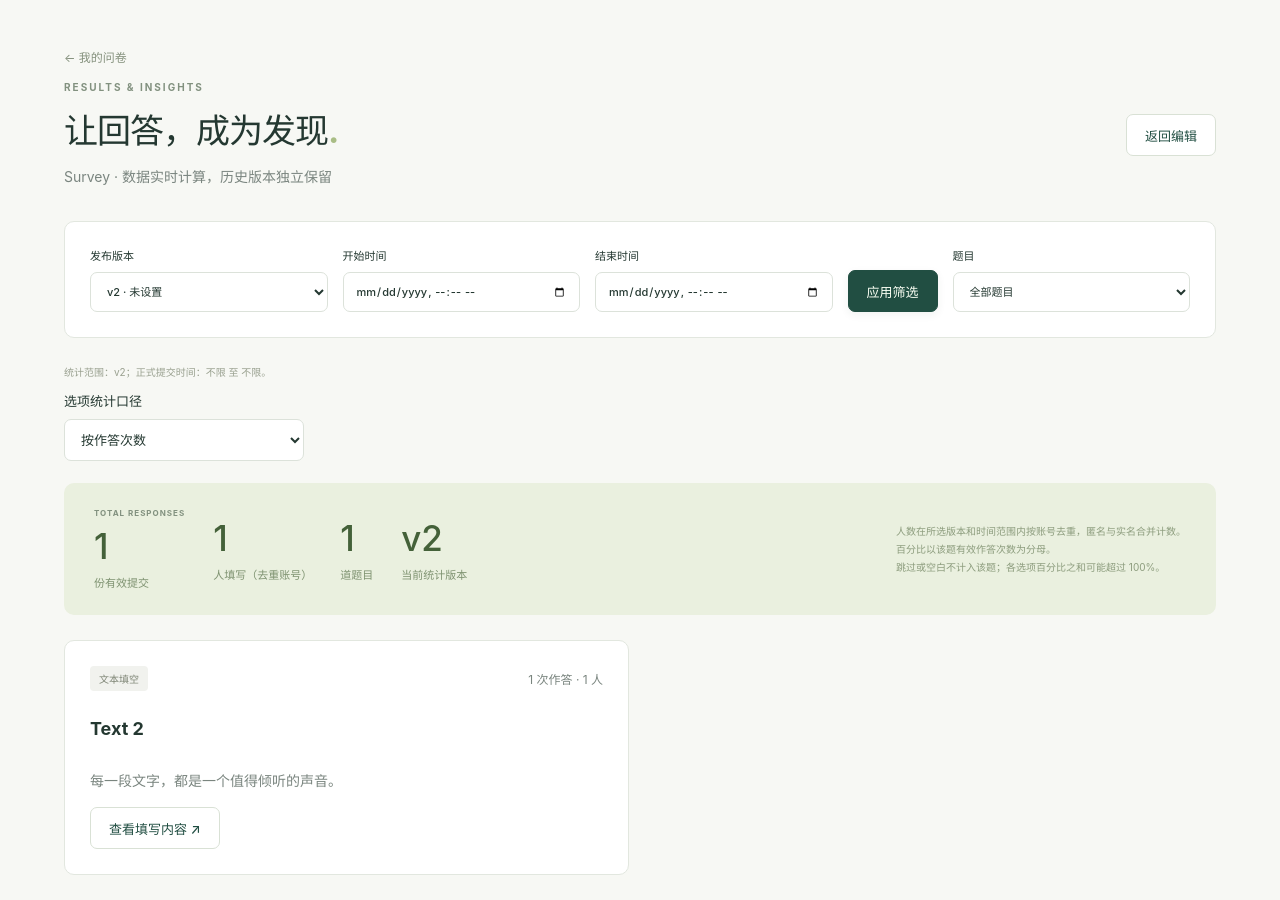
it: unapplied dates do not change detail query or version label
The width and height of the screenshot is (1280, 900).
In the field labelled "开始时间": (461, 292) [342, 272, 580, 312], type "2026-10-01T00:00"
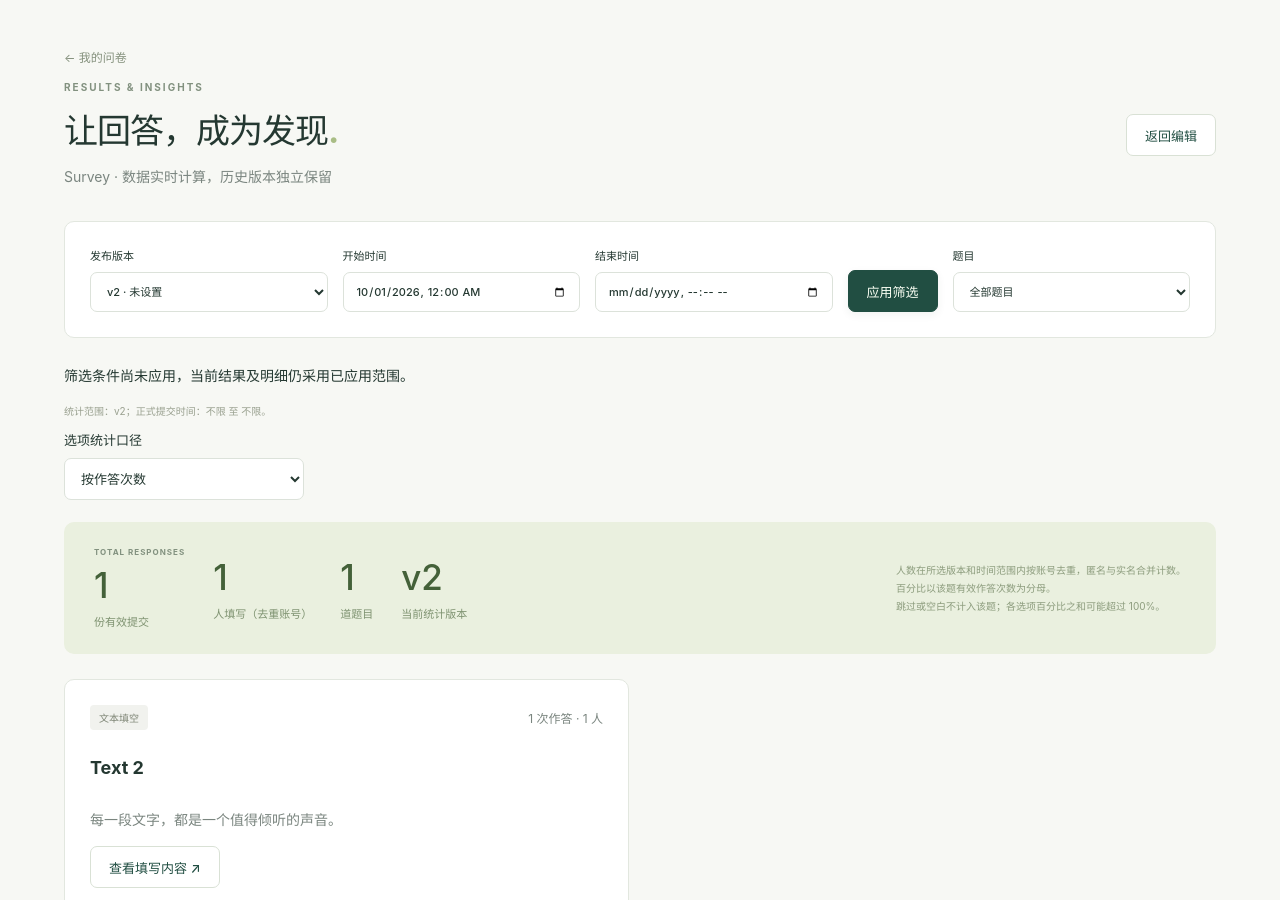
Click the button "查看填写内容 ↗": (155, 867) [90, 846, 220, 888]
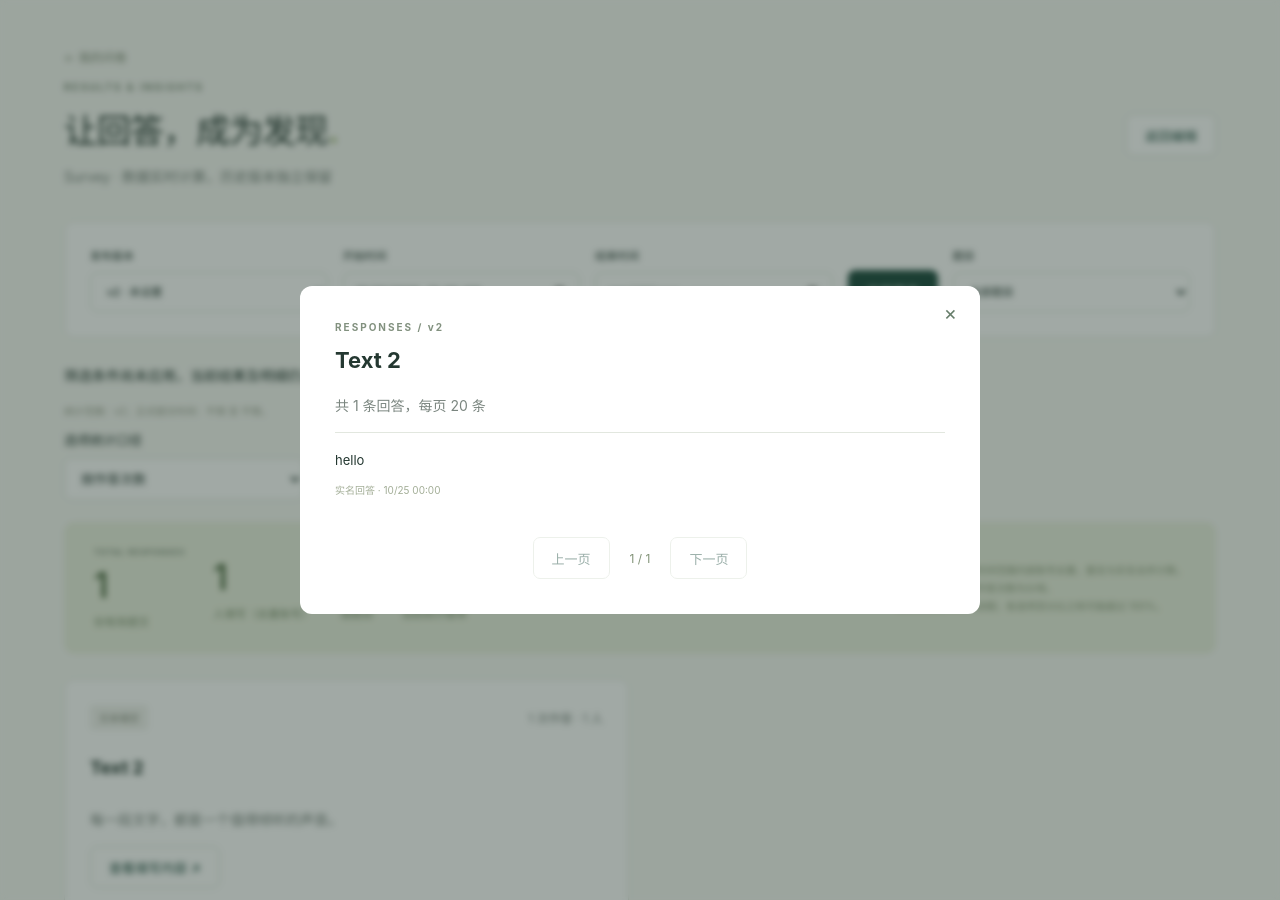
Now the text "筛选条件尚未应用" is shown, box [64, 367, 414, 384]
Now the text "RESPONSES / v2" is shown, box [335, 321, 444, 333]
